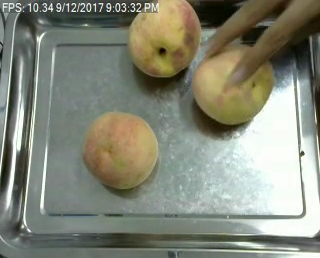Peach: (192, 42, 274, 123), (81, 111, 159, 190), (127, 0, 201, 78)
